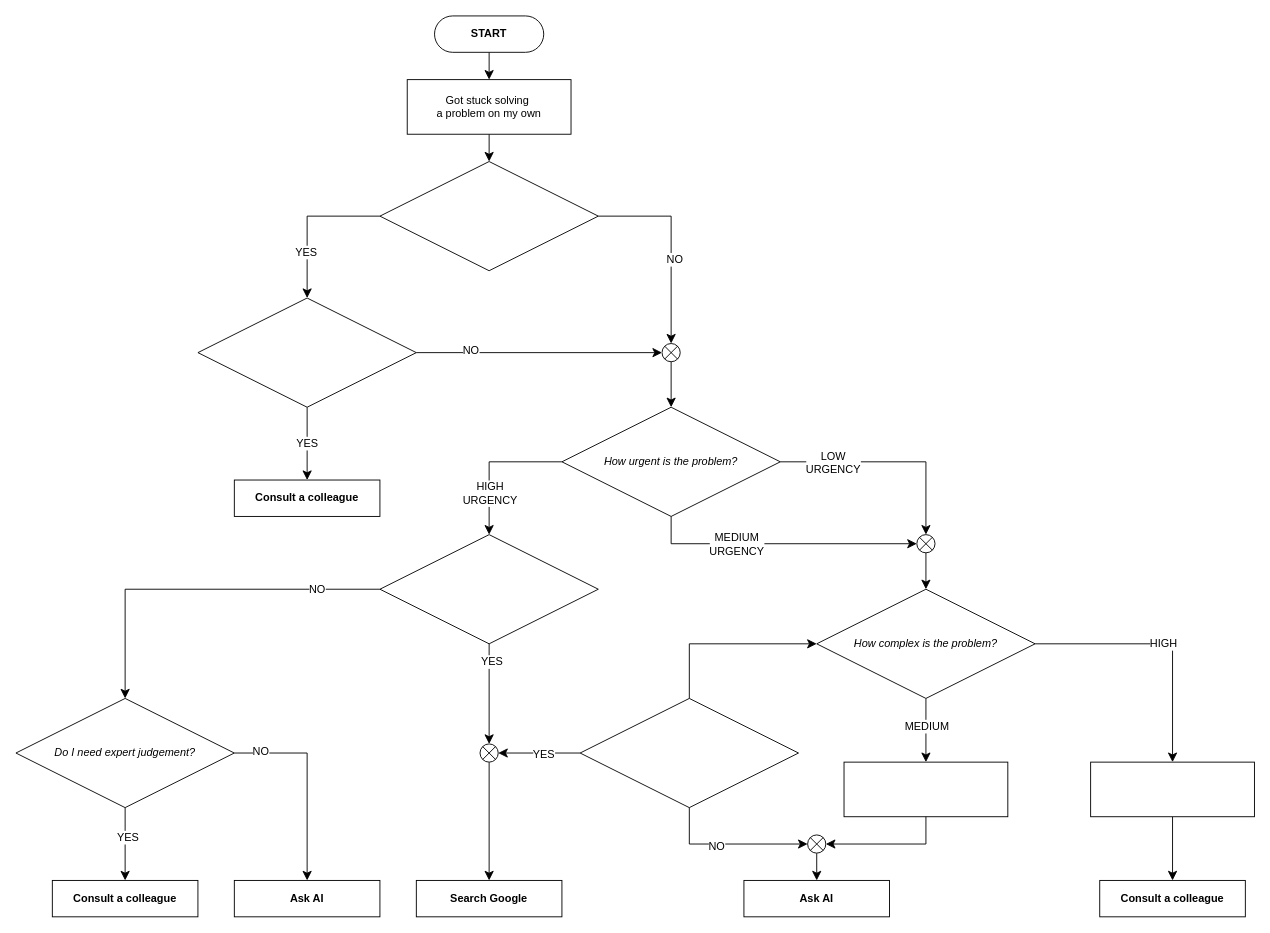
Some shapes in this 1270 by 933 pixel diagram are drawn without their labels. Here are the shapes that lost their labels. From the top down, the centre of each, then its label:
(x=488, y=216): Is the information sensitive and confidential?
(x=306, y=352): Does it contain proprietary code, personal information and company secrets?
(x=488, y=589): Is the problem searchable and general?
(x=689, y=753): Is it well-documented?
(x=925, y=789): Brainstorming, Drafting, and Pattern Recognition
(x=1172, y=789): Domain-Expertise Required
